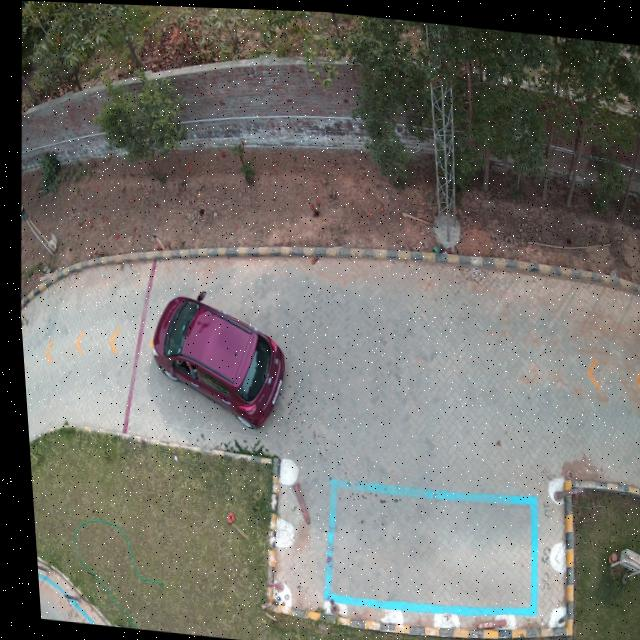car: (146, 295, 280, 426)
